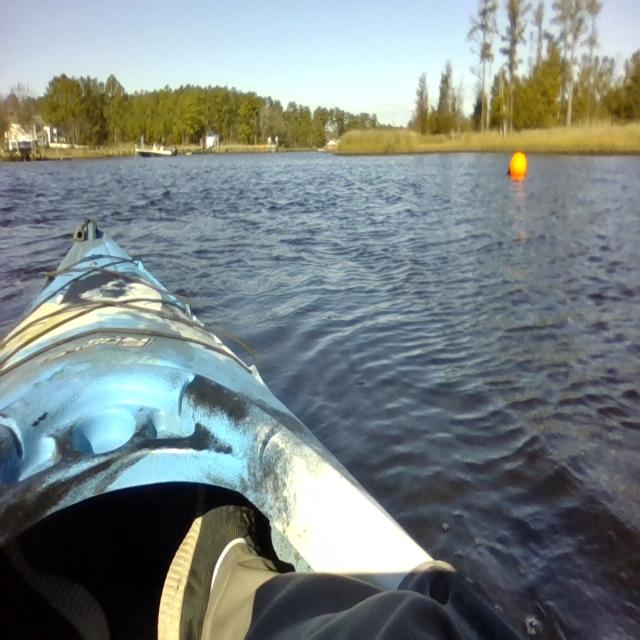Buoy: (505, 150, 532, 185)
